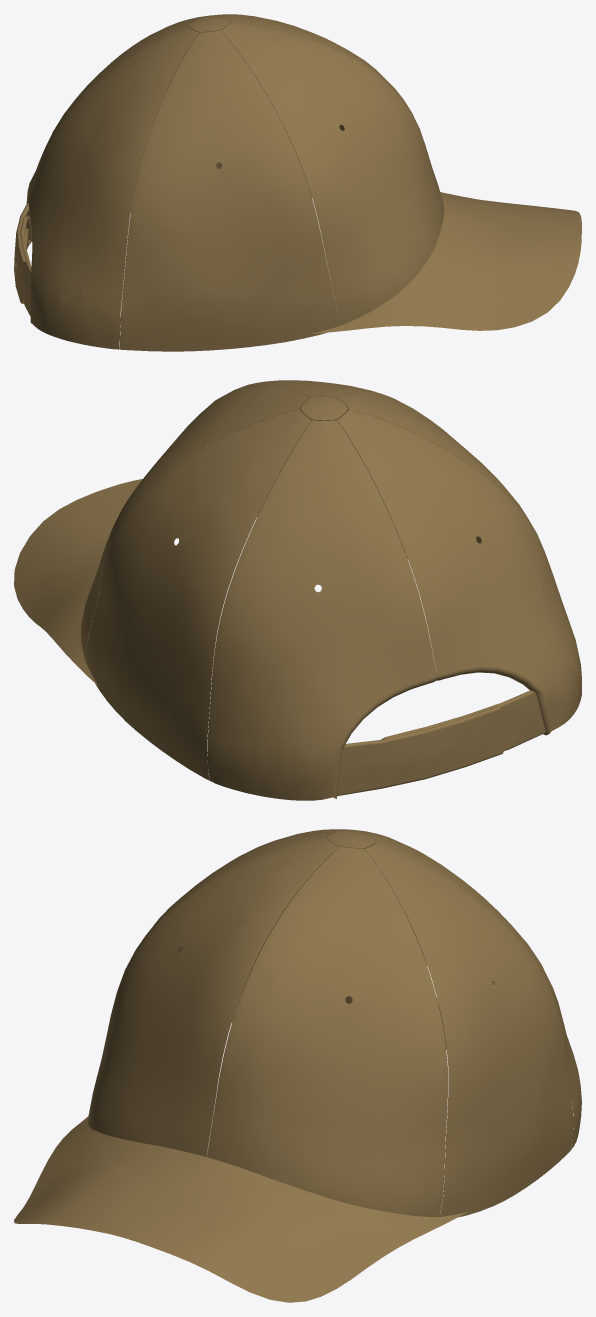
Rendered from Cap low.gltf.
The picture shows the model from 3 angles, top to bottom: view 1: azimuth 30°, elevation 25°; view 2: azimuth 150°, elevation 25°; view 3: azimuth 270°, elevation 25°; orthographic projection. The views are drawn at different scales.
Parts seen in each view (by area): view 1: Object_10.112; view 2: Object_10.112; view 3: Object_10.112.
Boxes of the visible parts, <box> form: Object_10.112: <box>14,14,581,351</box>; Object_10.112: <box>14,380,581,800</box>; Object_10.112: <box>14,829,581,1302</box>.
Bounding box in the file's own units: 0.7986 × 0.401 × 0.6659.
